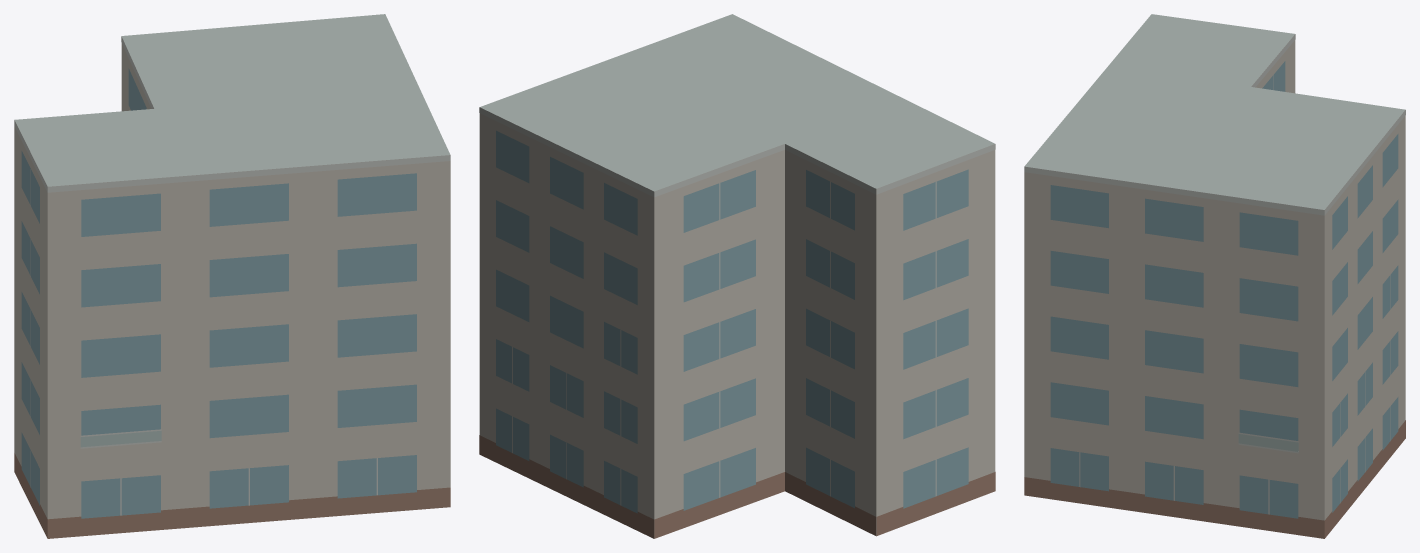
Rendered from survey-upis-32868699.glb.
The picture shows the model from 3 angles, left to right: view 1: azimuth 30°, elevation 25°; view 2: azimuth 150°, elevation 25°; view 3: azimuth 270°, elevation 25°; orthographic projection. The views are drawn at different scales.
Parts seen in each view (by area): view 1: survey-upis-32868699.tmp; view 2: survey-upis-32868699.tmp; view 3: survey-upis-32868699.tmp.
Part boxes in pixels (x1,y1,x2,y2): survey-upis-32868699.tmp: [14, 14, 450, 538]; survey-upis-32868699.tmp: [479, 14, 995, 538]; survey-upis-32868699.tmp: [1024, 14, 1405, 538].
Bounding box in the file's own units: 18.42 × 14.4 × 15.15.
